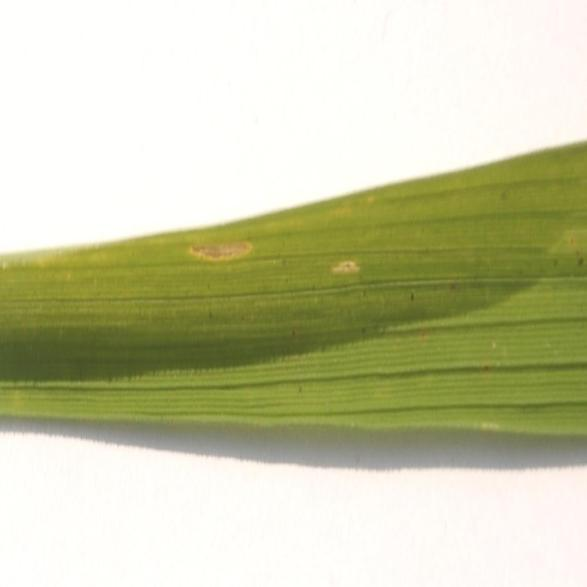Bacteria_Leaf_Blight: (162, 212, 268, 292), (316, 220, 401, 298)
